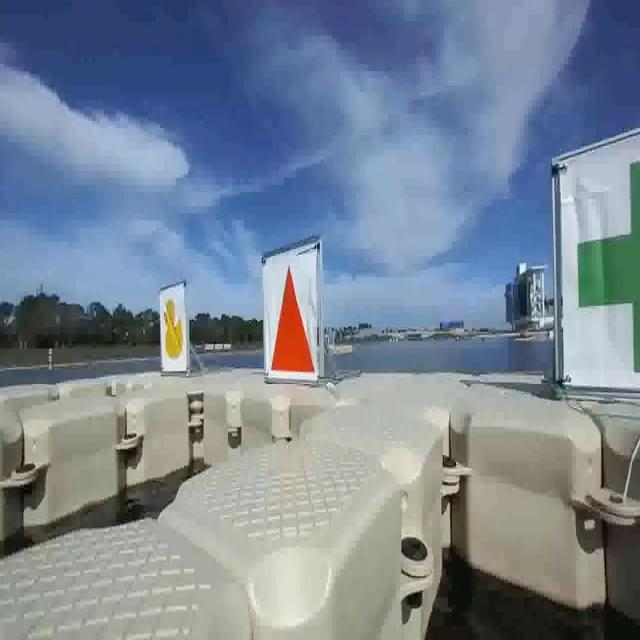blue-cross: (549, 128, 640, 392)
yellow-duck: (155, 286, 191, 378)
